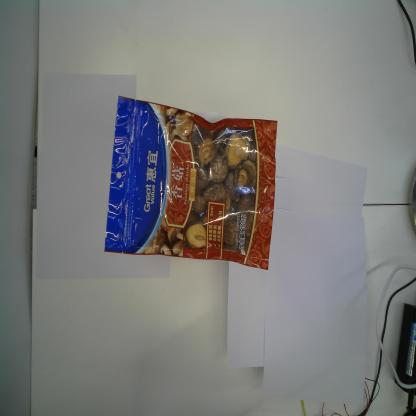Dried Food: (103, 94, 280, 271)
